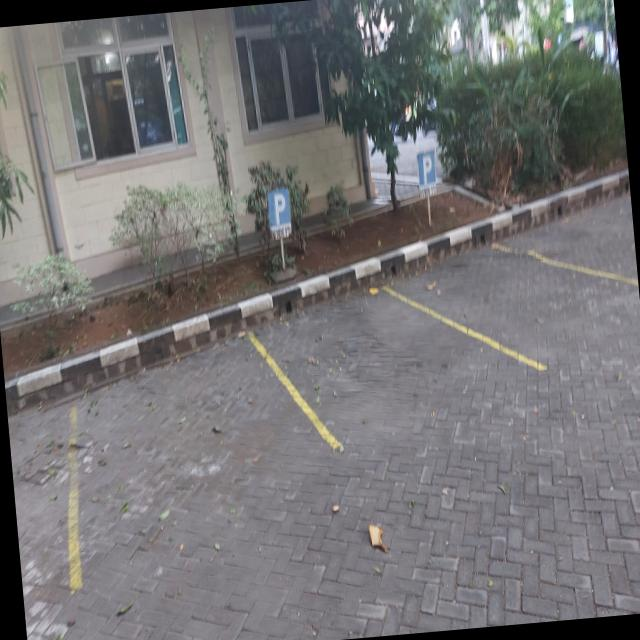empty: (69, 332, 345, 587), (249, 283, 548, 451), (386, 242, 640, 368), (495, 194, 638, 285)
